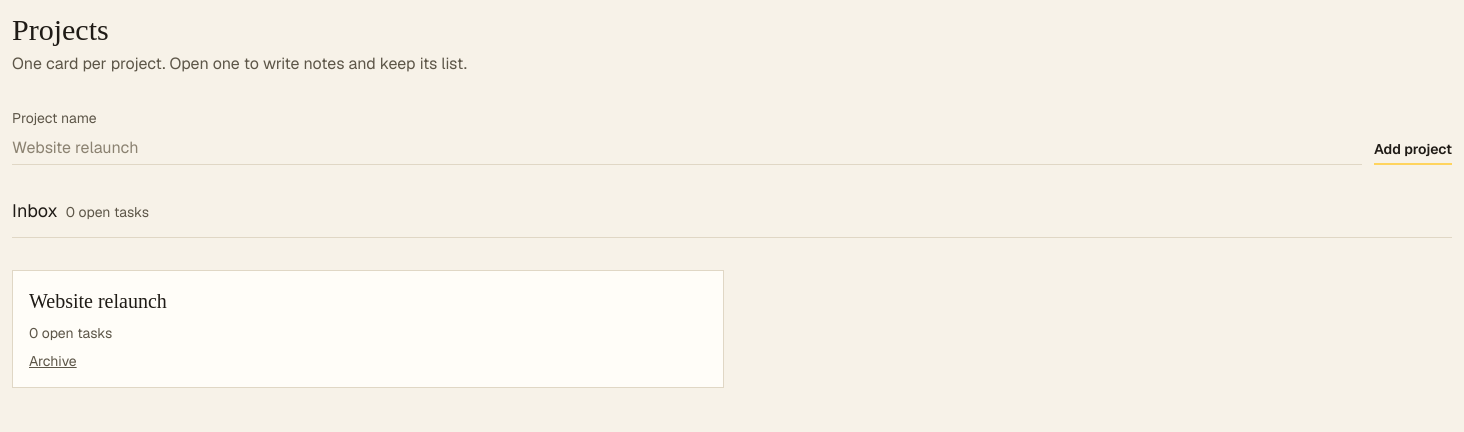
Test case: Projects screen › moves a project to the archive and back
This screenshot has width=1464, height=432.
Click the button named "Archive Website relaunch" at (53, 361), box [29,351,77,371]
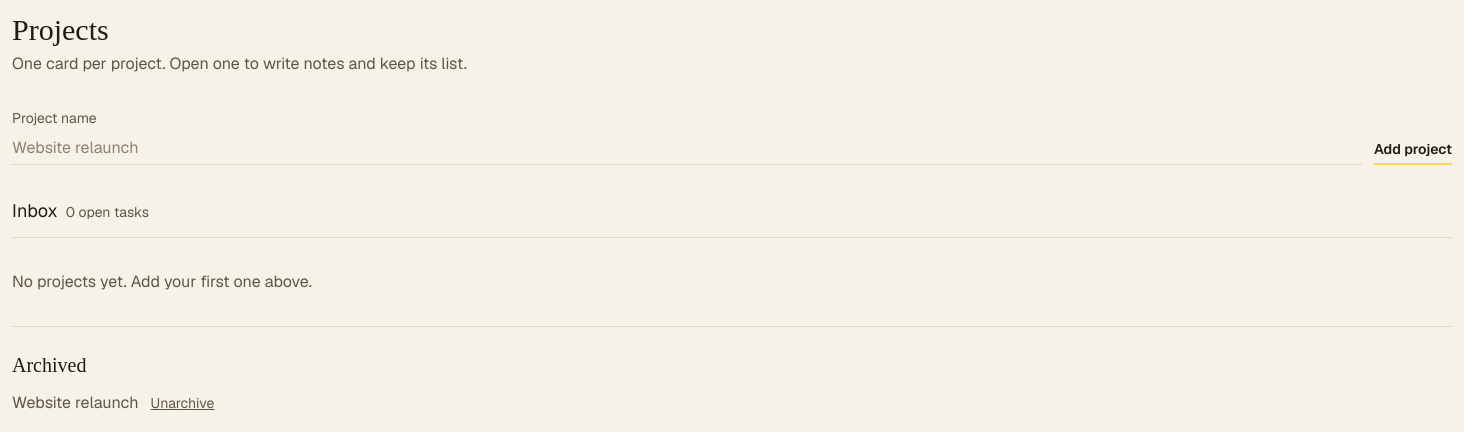
Expected: the link "Website relaunch" is shown, [12,391,138,415]
Click the button named "Unarchive Website relaunch" at (182, 403), box [150,393,214,413]
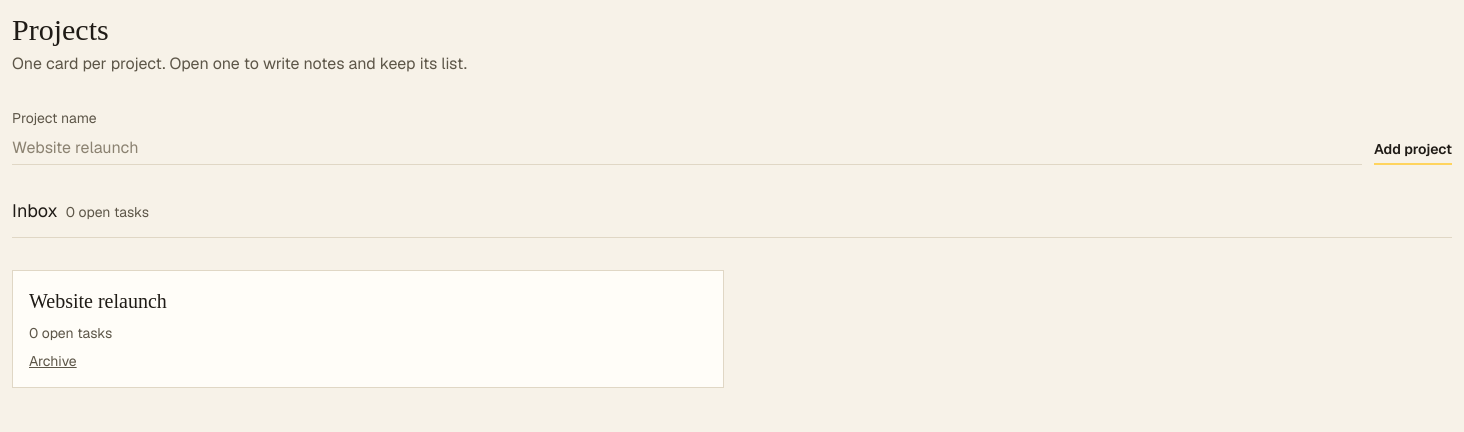
Result: the element showing "Website relaunch 0 open tasks Archive" is shown at [12,270,724,388]
Result: the heading "Archived" is gone
